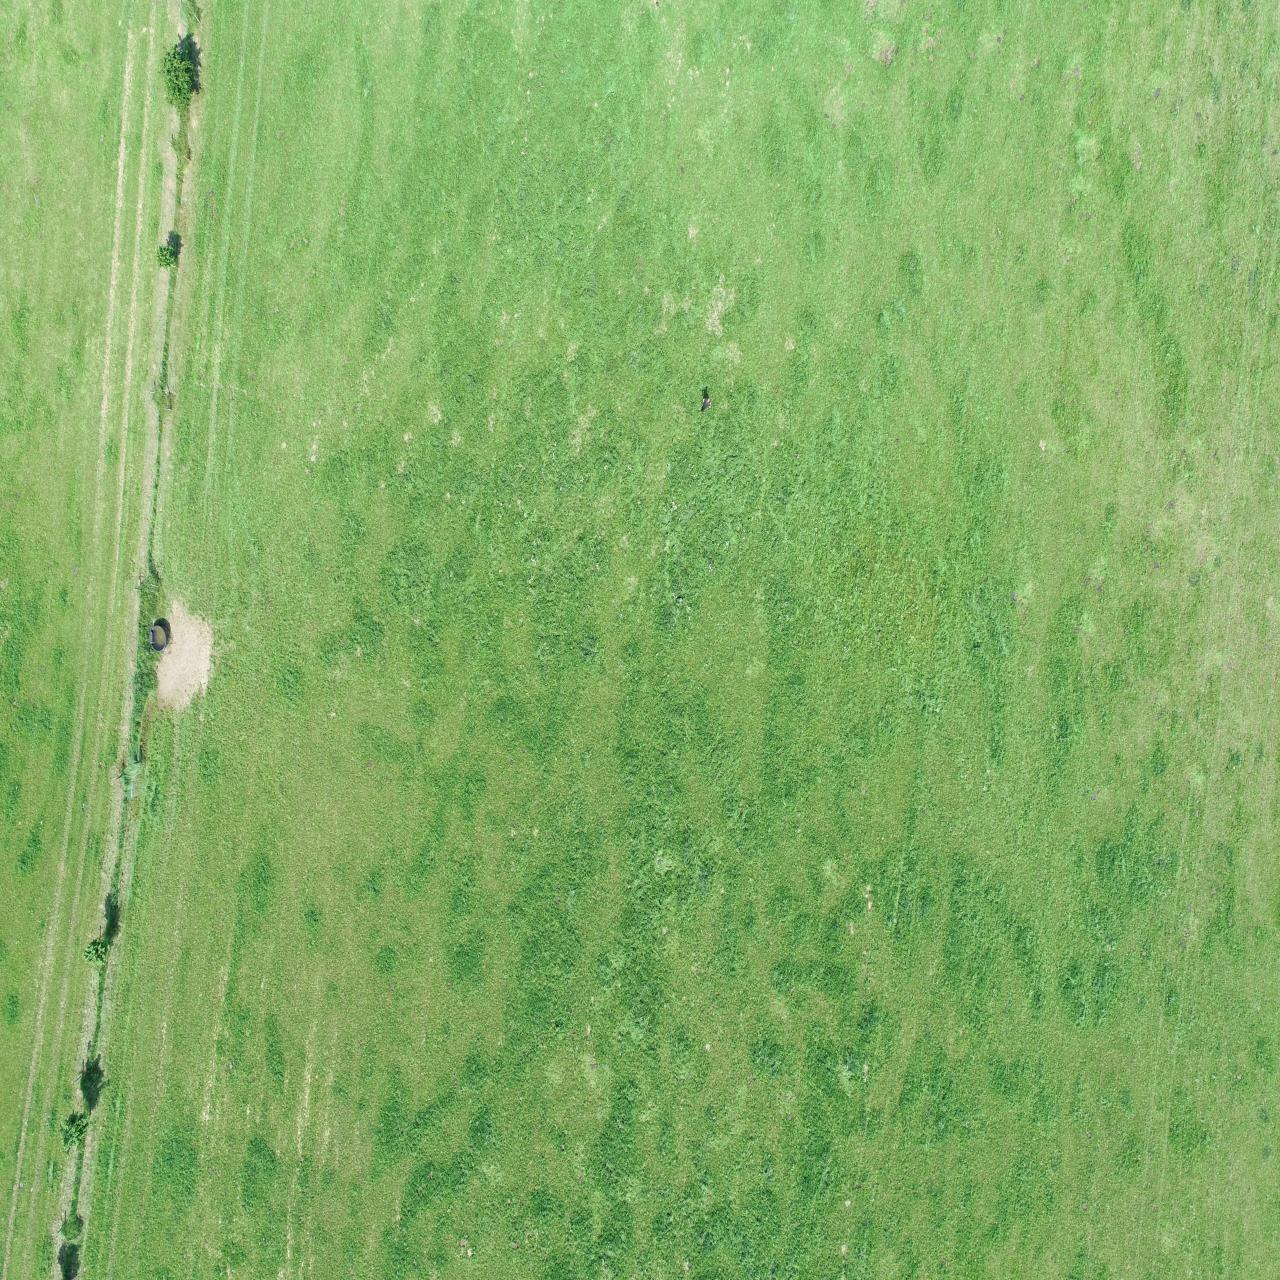cow: (886, 79, 930, 144), (1058, 60, 1103, 122), (982, 7, 1032, 59), (1178, 158, 1233, 199), (1069, 147, 1129, 182), (553, 301, 605, 340), (790, 393, 847, 425), (407, 250, 456, 286), (730, 63, 778, 100), (761, 209, 816, 240), (461, 372, 515, 402), (1112, 251, 1171, 278), (846, 282, 898, 313), (975, 349, 1027, 380), (1062, 238, 1110, 266), (979, 203, 1028, 230)
